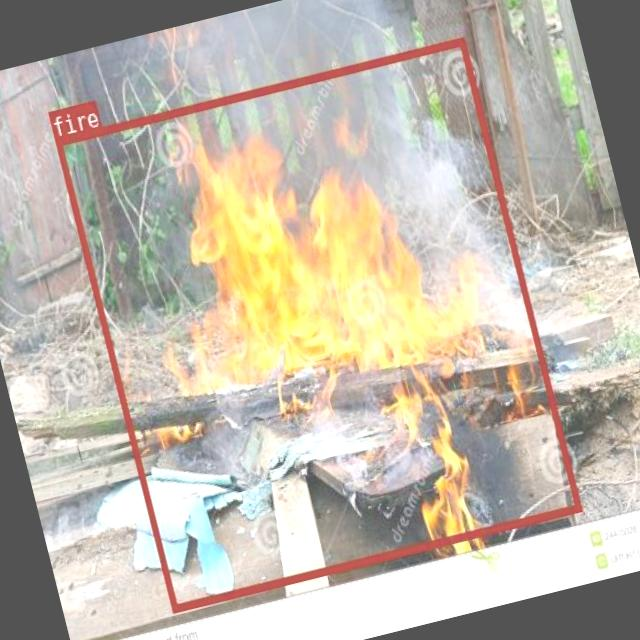fire: (53, 36, 580, 612)
